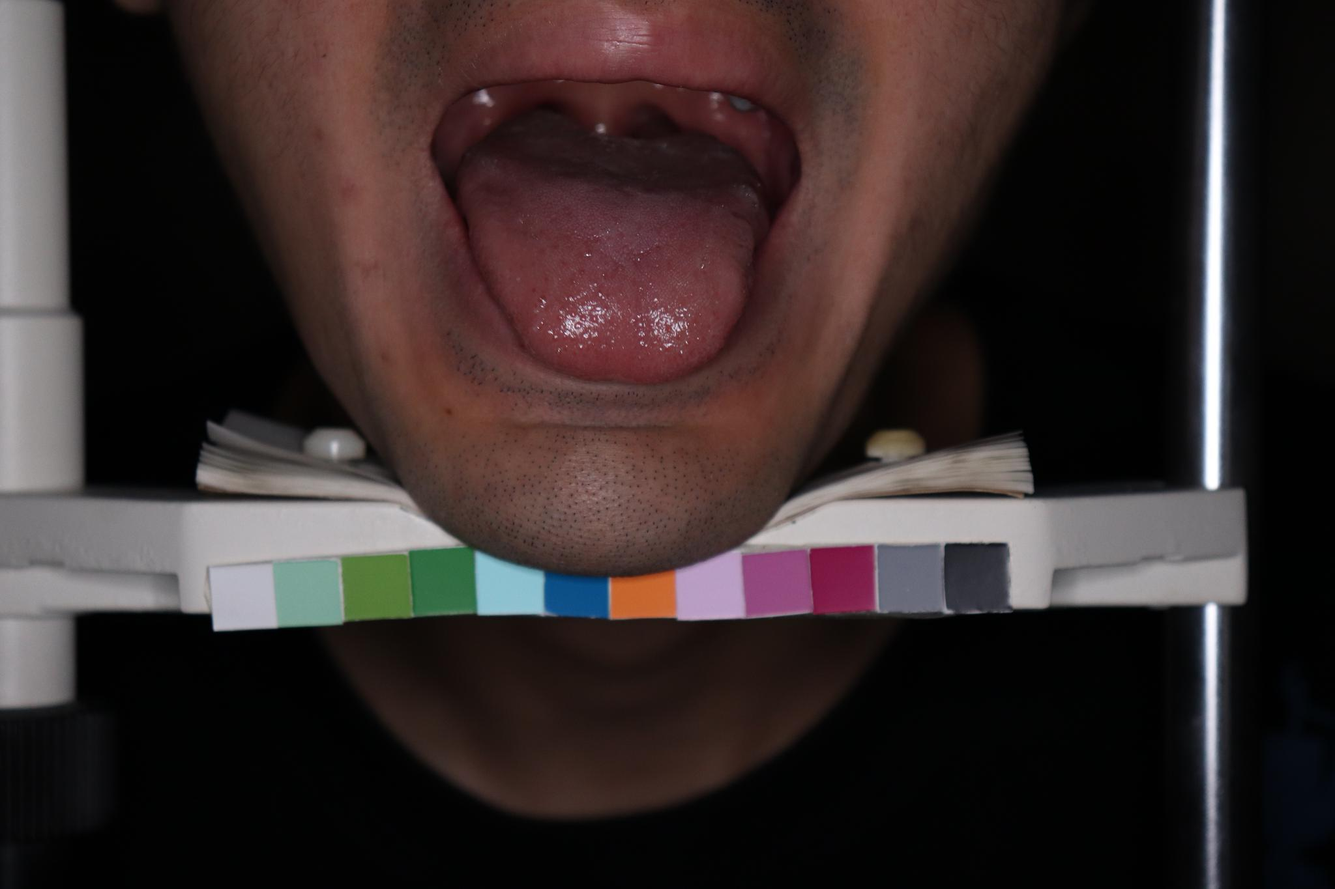baitaishe: (454, 111, 762, 384)
hongdianshe: (541, 244, 613, 320)
huataishe: (539, 263, 714, 365)
